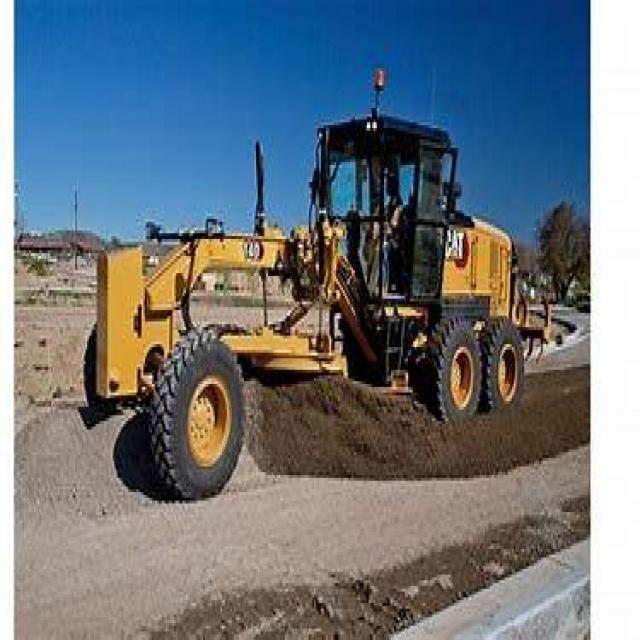Grader: (77, 97, 558, 495)
